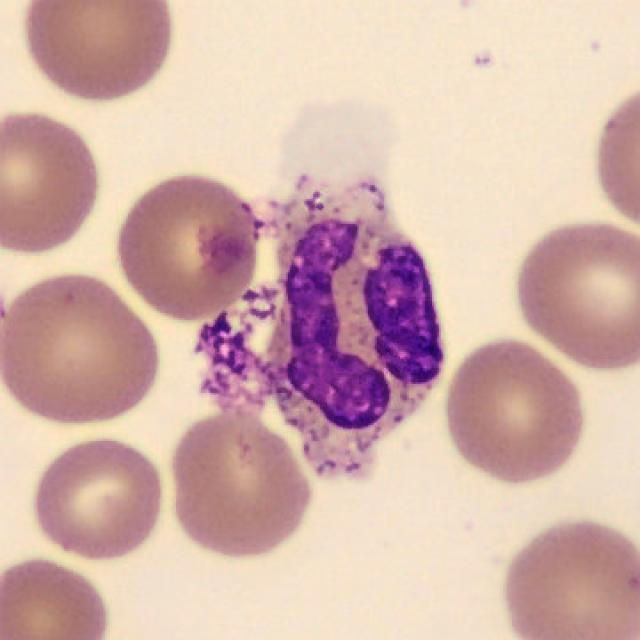Neutrofilo segmentado: (235, 174, 444, 478)
